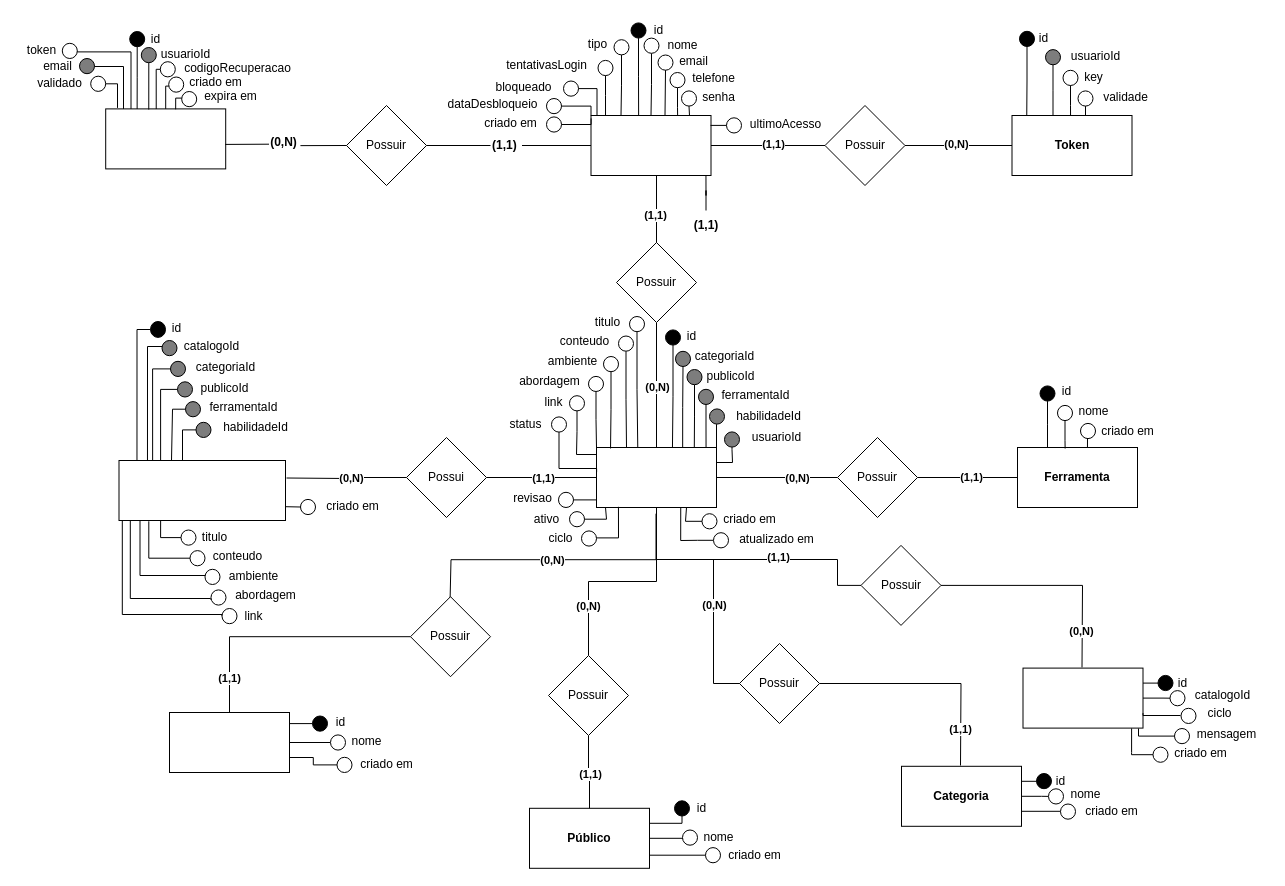
Some shapes in this 1285 by 886 pixel diagram are drawn without their labels. Here are the shapes that lost their labels. From the top down, the centre of each, then its label:
(165,138): recuperacaoSenha
(650,145): Usuário
(202,490): CatálogoAtualizado
(656,477): Catálogo
(1082,697): Mensagens
(229,742): Habilidade
